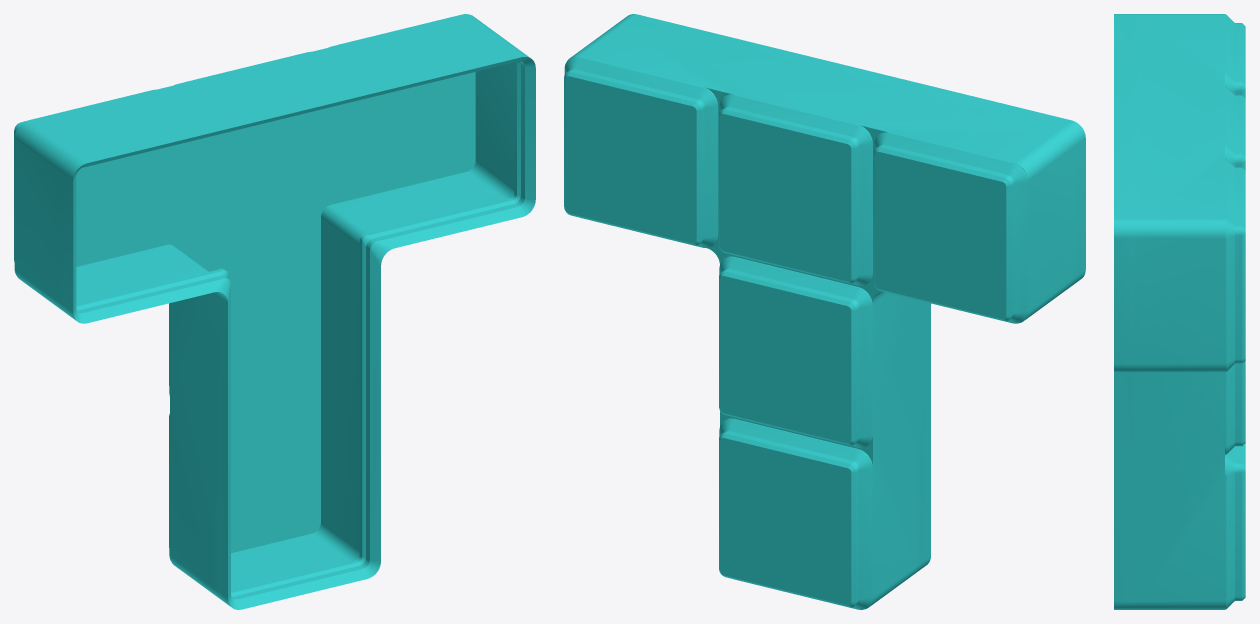
The model's file is hero-t-shape.glb.
The picture shows the model from 3 angles, left to right: view 1: azimuth 30°, elevation 25°; view 2: azimuth 150°, elevation 25°; view 3: azimuth 270°, elevation 25°; orthographic projection. The views are drawn at different scales.
Bounding box in the file's own units: 126 × 126 × 32.41.
